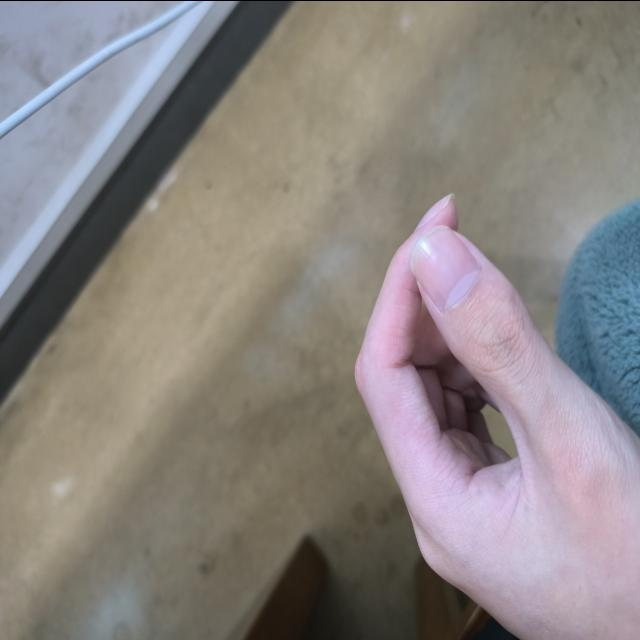Nail: (411, 224, 480, 311), (416, 192, 451, 228)
